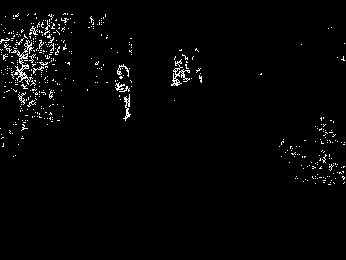person: (110, 63, 135, 125)
